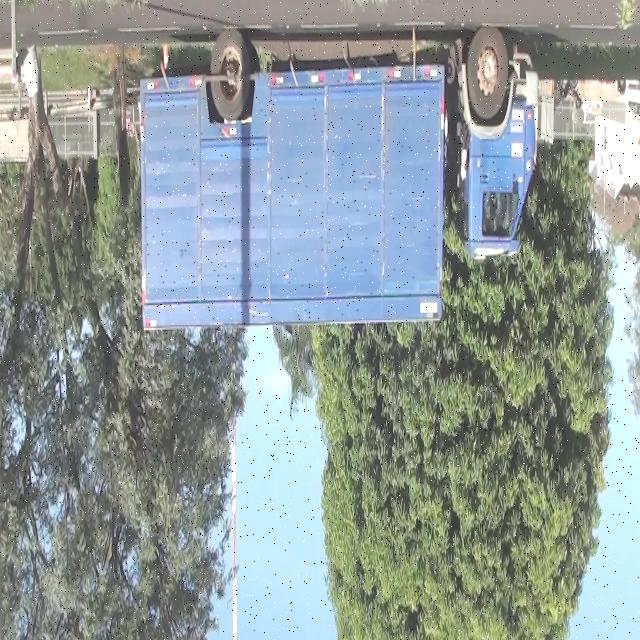-axle: (465, 37, 509, 119), (211, 38, 251, 121)
